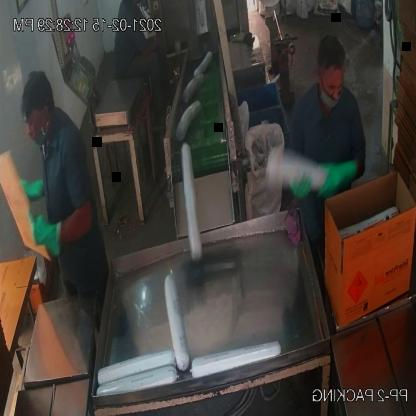glove: (21, 194, 90, 274), (288, 142, 362, 215)
